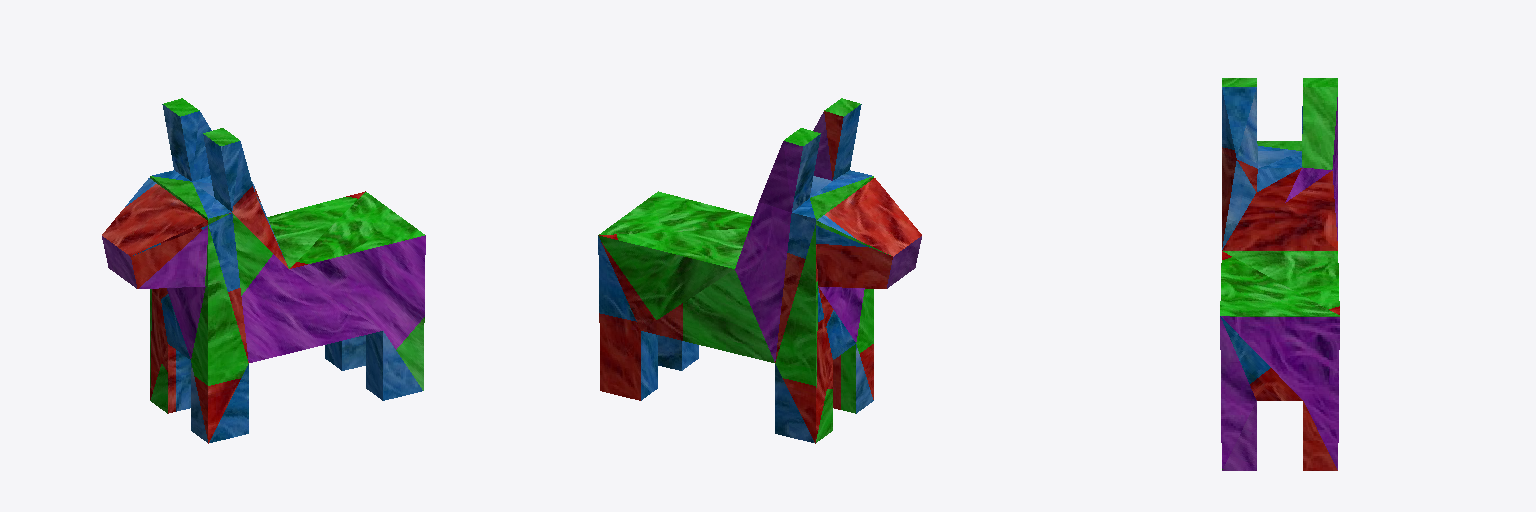
3 views of the same model, side by side, from view 1: azimuth 30°, elevation 25°; view 2: azimuth 150°, elevation 25°; view 3: azimuth 270°, elevation 25° (orthographic).
Bounding box in the file's own units: 4.04 × 4.08 × 1.5.
Materials: 1 (1 with a texture image).